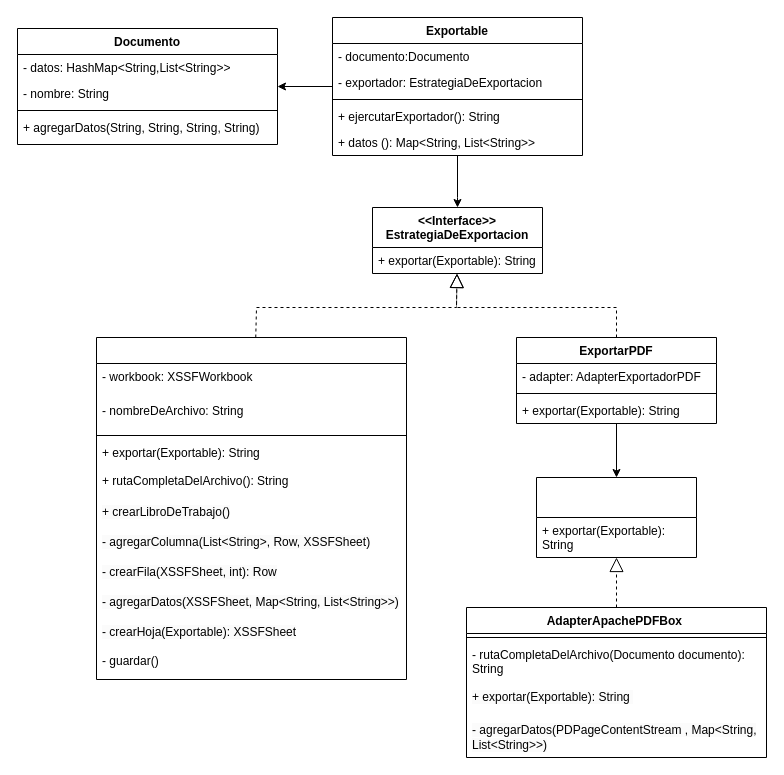
Some shapes in this 784 by 775 pixel diagram are drawn without their labels. Each missing label, with the box of its shape:
<<Interface>> AdapterExportadorPDF: (536, 476, 696, 558)
ExportarAExcel: (96, 336, 406, 680)
